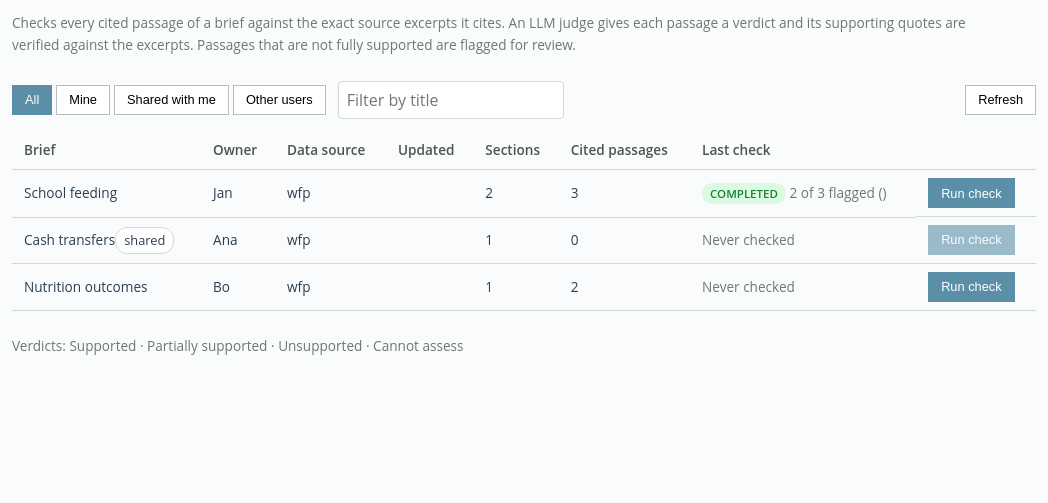
BriefTestingManager › lists briefs and opens a check without a combo picker
What coordinates should you click on to do the following:
click the text "School feeding"
I would click on:
 (107, 193)
Its box is [12,170,201,217].
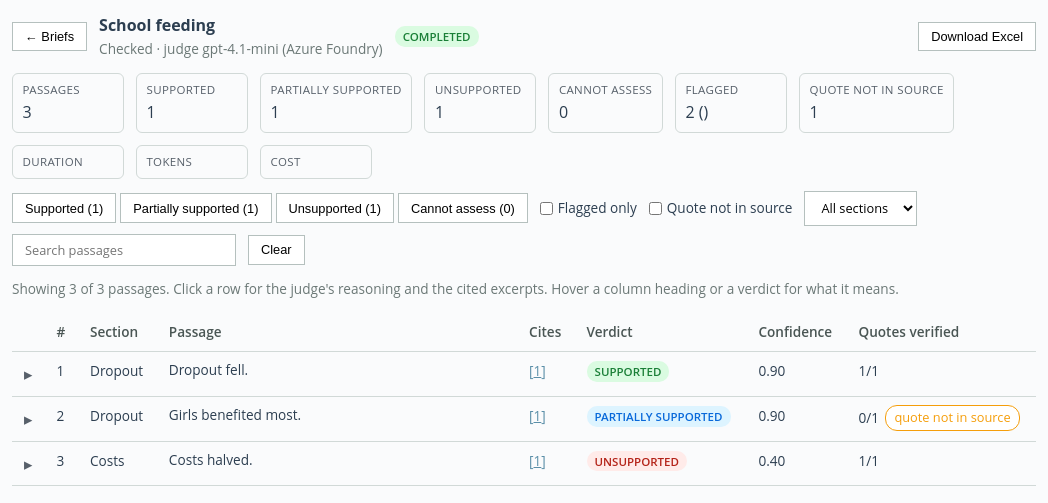
Now the button "← Briefs" is shown, box [12,22,87,51]
